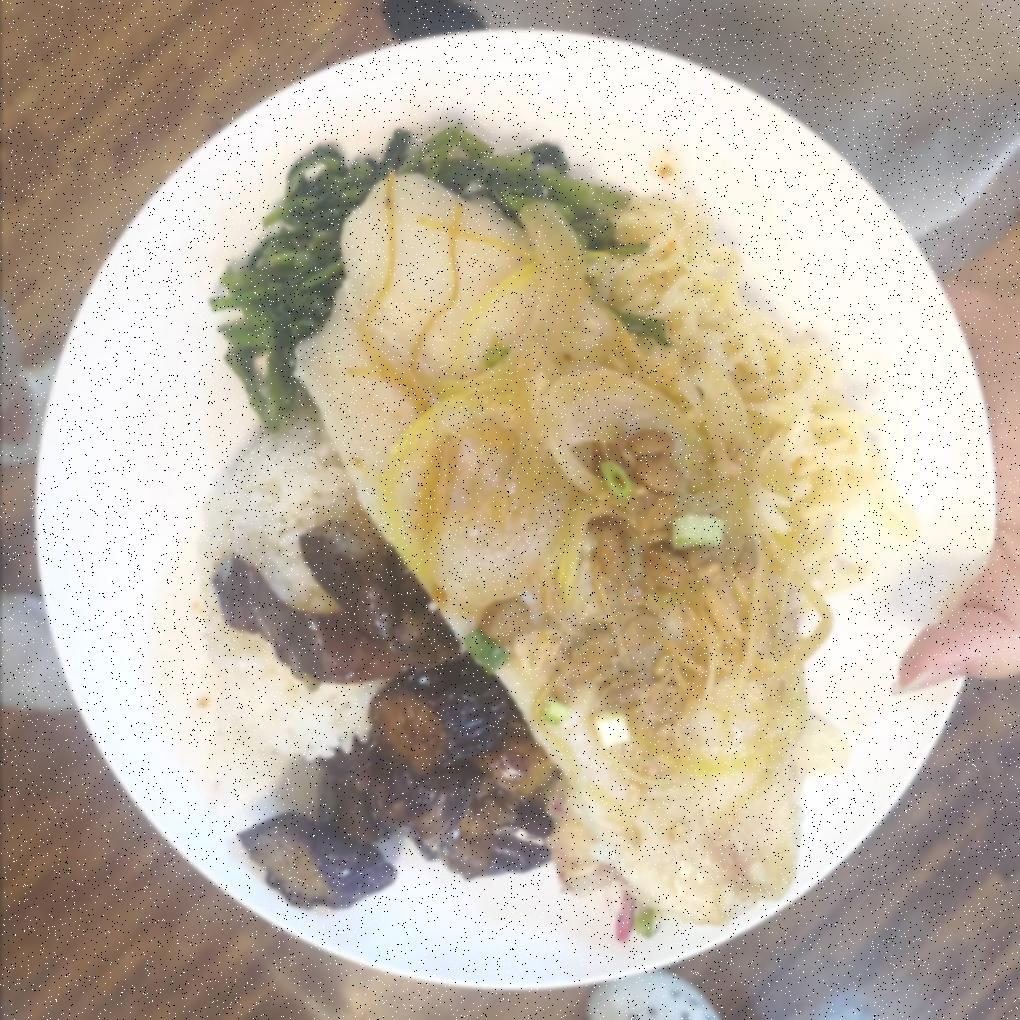plate: (28, 35, 992, 1005)
side dish: (599, 185, 896, 643), (210, 531, 547, 908), (220, 131, 630, 432)
steamed fish fillet: (286, 147, 812, 918)
white rice: (195, 397, 462, 768)
